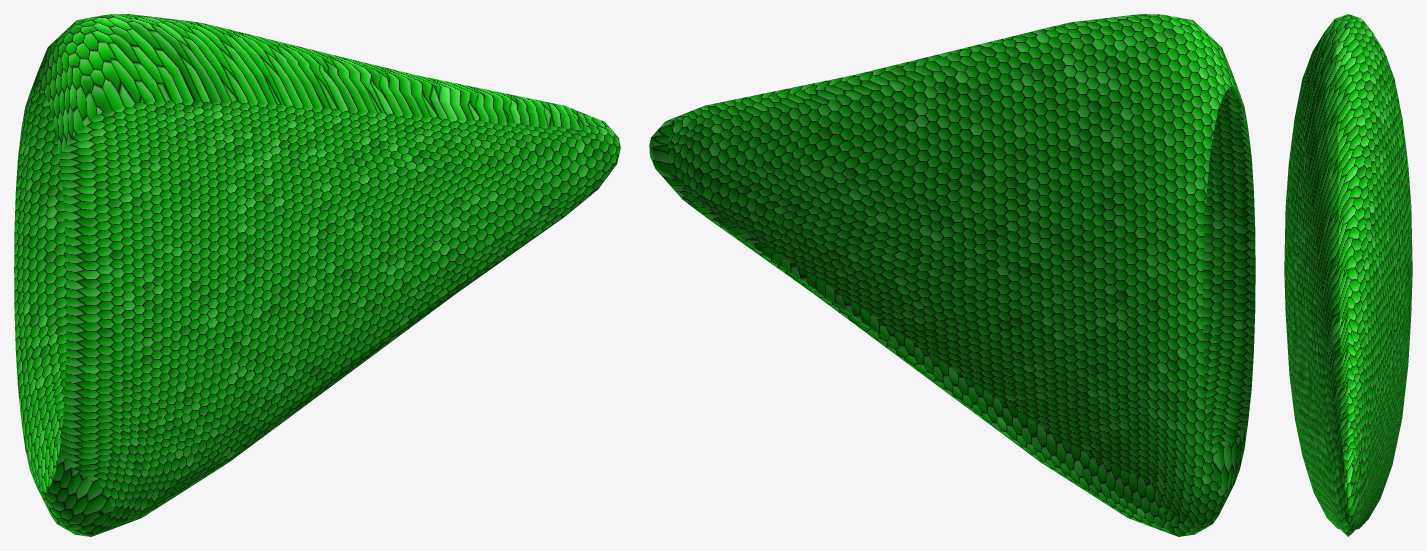
The model's file is Fish5_1_new.dae.
3 views of the same model, side by side, from view 1: azimuth 30°, elevation 25°; view 2: azimuth 150°, elevation 25°; view 3: azimuth 270°, elevation 25° (orthographic). The views are drawn at different scales.
Visible parts, largest first — view 1: Cube_Cube_001; view 2: Cube_Cube_001; view 3: Cube_Cube_001.
Part boxes in pixels (x1,y1,x2,y2): Cube_Cube_001: (14, 14, 620, 536); Cube_Cube_001: (649, 14, 1255, 536); Cube_Cube_001: (1284, 14, 1412, 536).
Bounding box in the file's own units: 16.76 × 3.37 × 14.26.
1 material, 1 textured.
